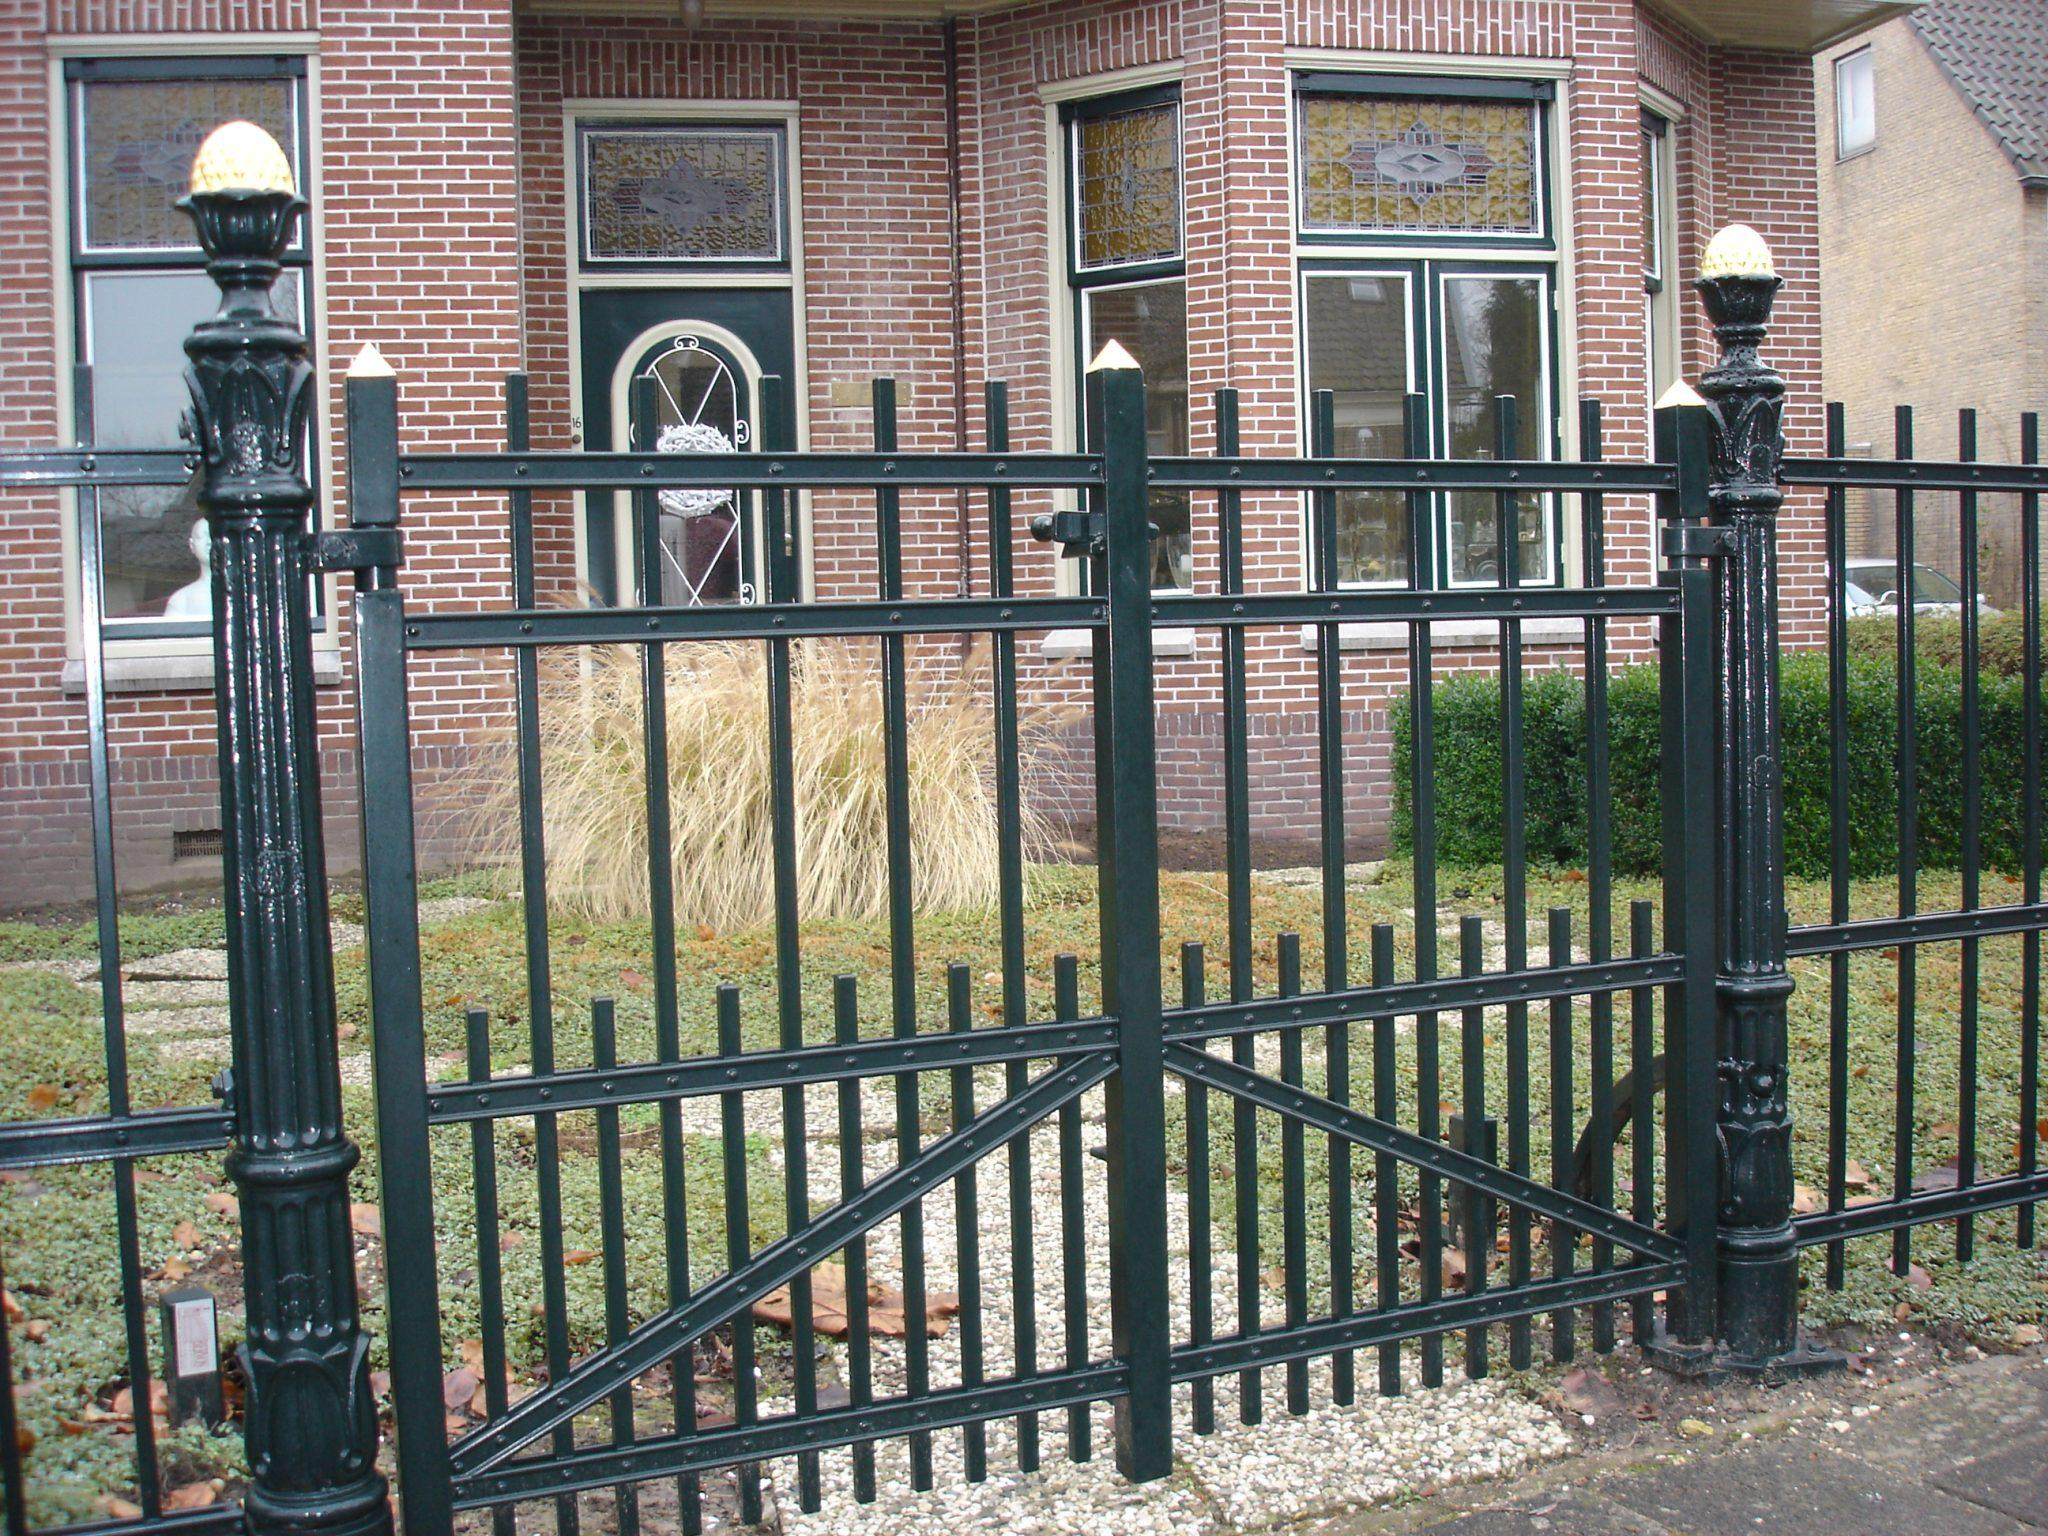obstacle: (160, 95, 1721, 1534)
